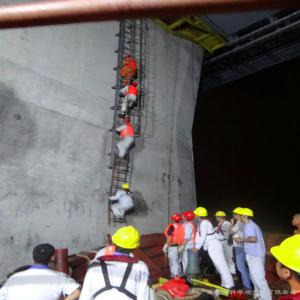none: (30, 243, 58, 267)
red: (183, 211, 195, 223), (171, 214, 183, 225), (123, 117, 132, 125), (131, 82, 139, 88), (125, 55, 131, 61)
yellow: (271, 234, 300, 281), (111, 226, 143, 255), (195, 207, 209, 222), (240, 208, 254, 223), (215, 211, 227, 223), (233, 208, 243, 221), (121, 184, 131, 192)
